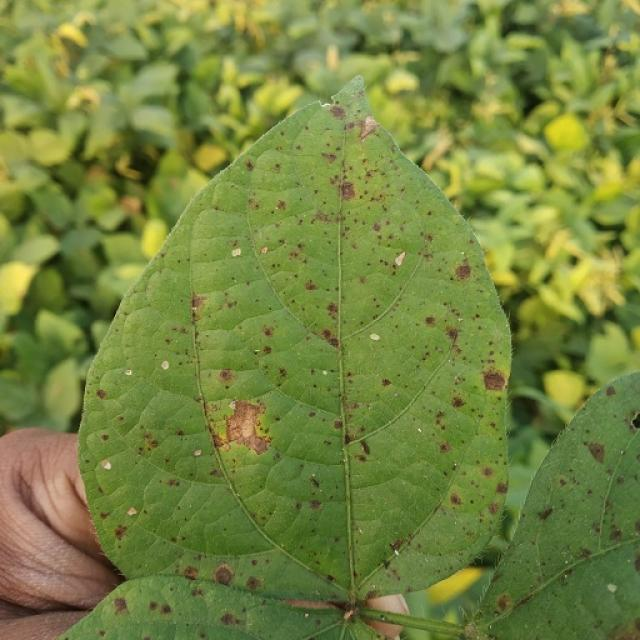Anthracnose: (222, 398, 269, 454), (484, 361, 501, 397), (512, 588, 538, 608), (213, 564, 235, 586), (359, 115, 379, 139), (586, 441, 605, 464), (142, 432, 160, 453), (311, 210, 335, 225), (464, 622, 481, 640), (340, 181, 356, 200), (496, 594, 512, 613), (320, 328, 337, 345), (245, 575, 263, 591), (455, 263, 471, 280), (191, 293, 207, 310), (182, 565, 200, 580), (220, 612, 239, 626), (112, 597, 128, 613), (211, 432, 226, 449), (537, 506, 553, 521), (113, 524, 128, 540), (389, 538, 404, 554), (626, 413, 639, 431), (219, 369, 235, 383), (609, 527, 623, 543), (358, 439, 371, 456), (445, 326, 459, 341), (329, 106, 345, 119), (450, 395, 465, 408), (578, 547, 593, 560), (321, 152, 337, 164), (438, 441, 451, 454), (450, 492, 462, 506), (304, 279, 318, 291), (308, 498, 322, 510), (394, 252, 406, 266), (365, 590, 380, 601), (496, 481, 508, 494), (159, 603, 172, 615), (262, 326, 274, 338), (342, 609, 354, 621), (95, 389, 107, 400), (605, 385, 617, 396), (425, 315, 437, 326), (326, 302, 338, 313), (482, 466, 494, 477), (244, 159, 254, 172), (275, 200, 286, 211), (310, 477, 320, 489), (101, 459, 112, 469), (167, 478, 179, 487), (333, 420, 343, 430), (557, 477, 567, 487), (324, 574, 335, 583), (382, 559, 391, 570), (126, 507, 137, 516), (381, 378, 391, 387), (231, 248, 241, 257), (370, 333, 380, 341), (193, 449, 202, 457), (161, 361, 169, 370), (101, 433, 109, 441), (261, 246, 268, 254)
Blackgram: (80, 80, 508, 638)
